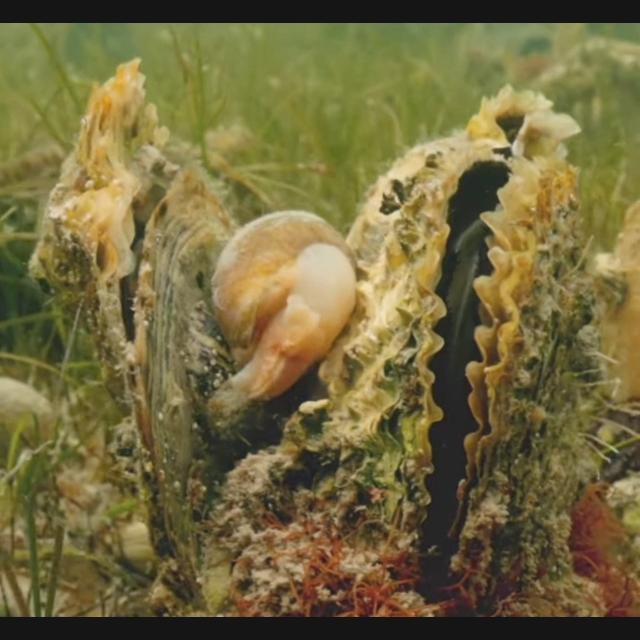Oyster-Open: (316, 84, 608, 598), (27, 54, 241, 602)
